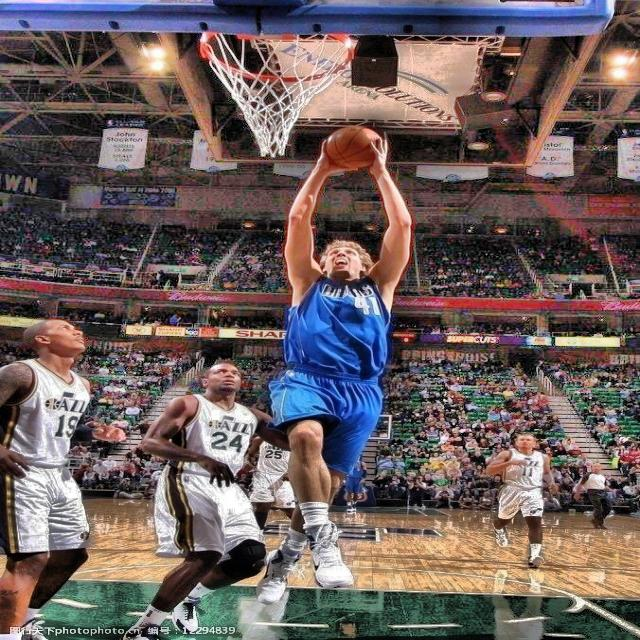rim: (199, 29, 352, 156)
